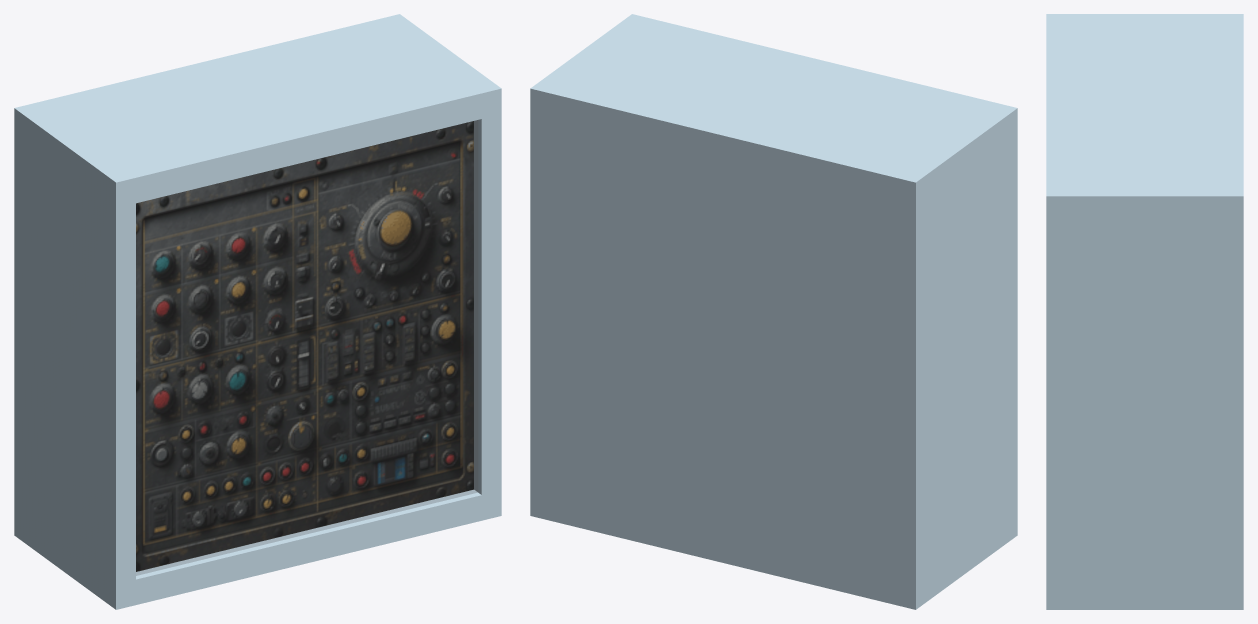
File: EB_FuzeBox.fbx
3 renders of one model, left to right at view 1: azimuth 30°, elevation 25°; view 2: azimuth 150°, elevation 25°; view 3: azimuth 270°, elevation 25°, orthographic. The views are drawn at different scales.
Visible parts, largest first — view 1: FuseBox; view 2: FuseBox; view 3: FuseBox.
Part boxes in pixels (x1,y1,x2,y2): FuseBox: (14, 14, 501, 609); FuseBox: (530, 14, 1017, 609); FuseBox: (1046, 14, 1243, 609).
Bounding box in the file's own units: 43.09 × 45.64 × 19.72.
